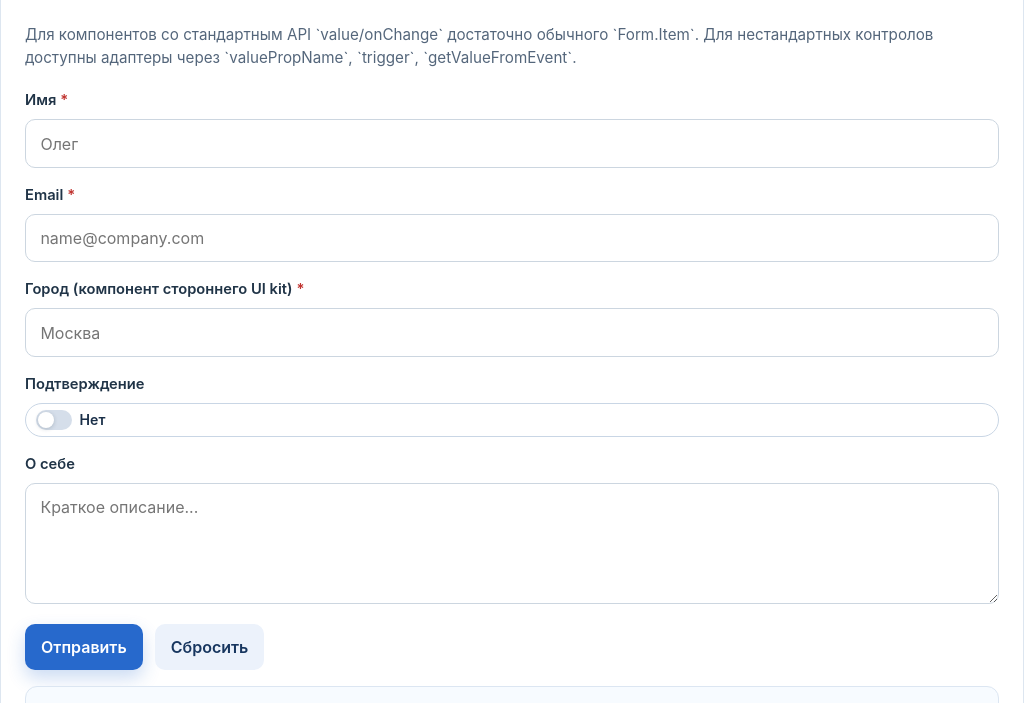
it: ProfileFormWidget › успешный submit показывает submittedValues
Type "Иван" into the field with placeholder "Олег" at {"x": 512, "y": 144}, box [25,120,999,168]
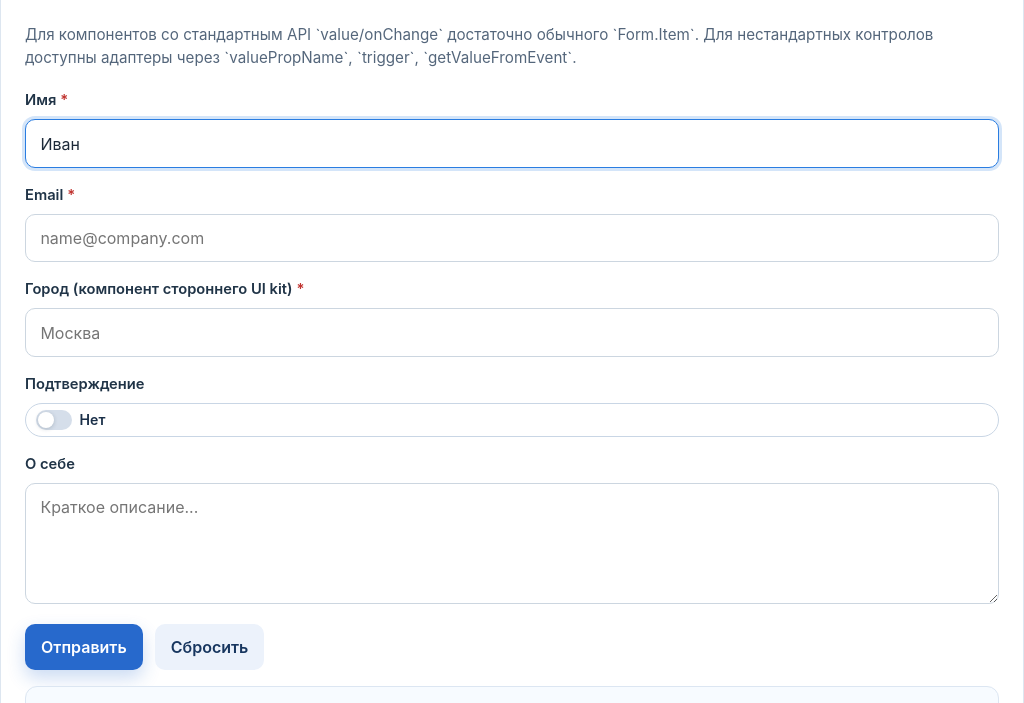
Type "ivan@example.com" into the field with placeholder "name@company.com" at {"x": 512, "y": 238}, box [25,214,999,262]
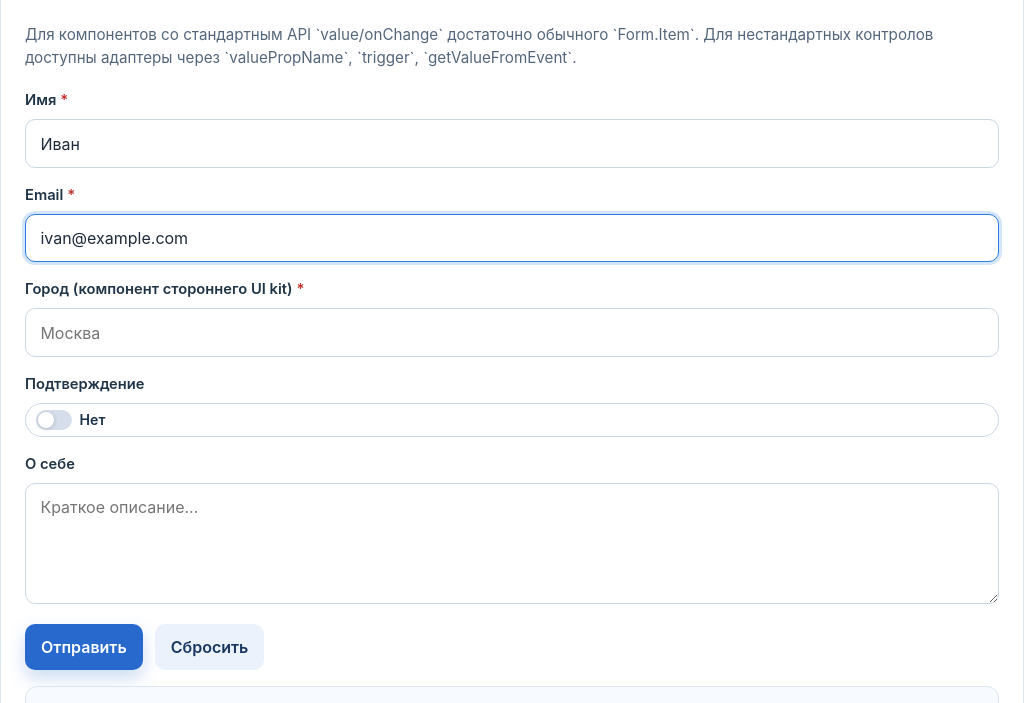
Type "Казань" into the field with placeholder "Москва" at {"x": 512, "y": 333}, box [25,308,999,357]
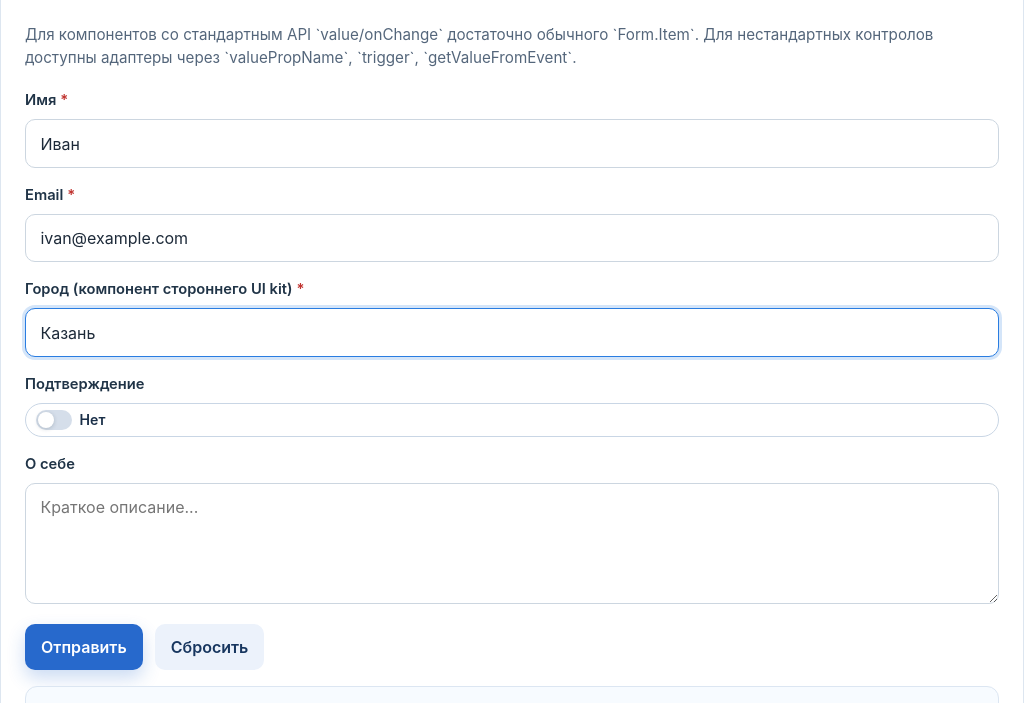
Type "Длинное описание профиля" into the text box with placeholder "Краткое описание..." at {"x": 512, "y": 543}, box [25,483,999,604]
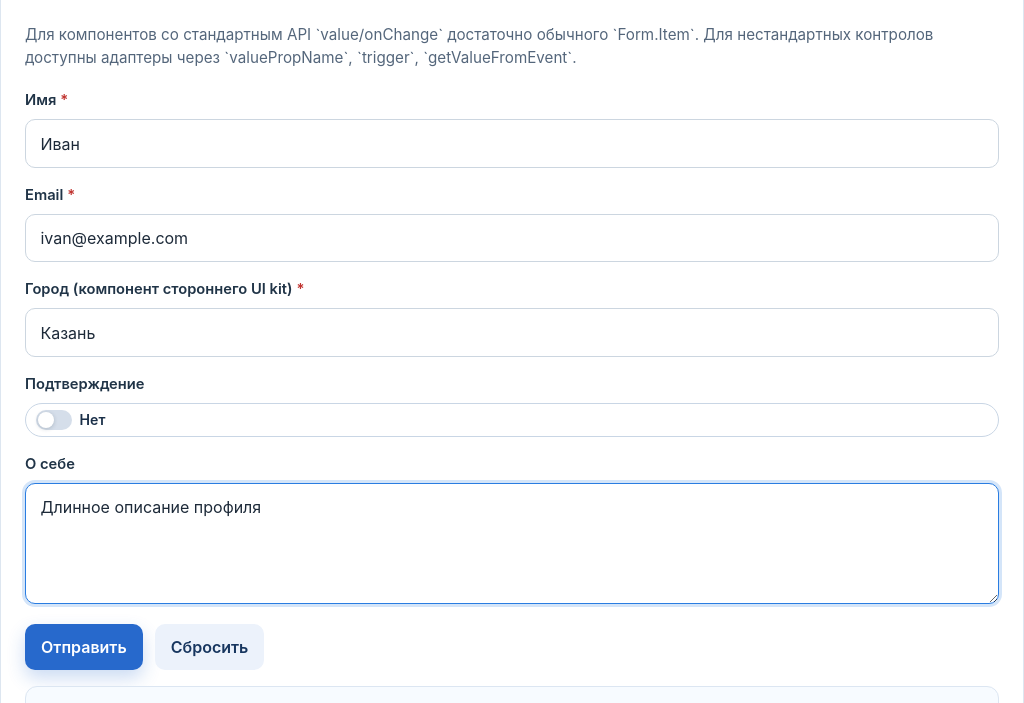
Click the switch at {"x": 54, "y": 420}, box [25,403,999,437]
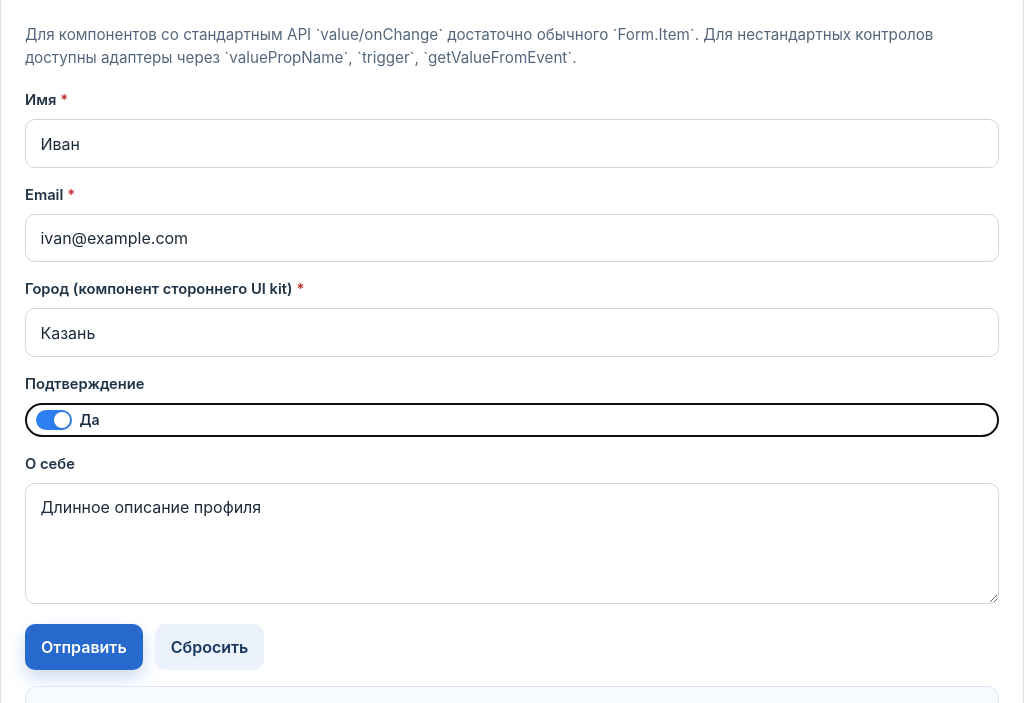
Click the button "Отправить" at {"x": 84, "y": 647}, box [25,624,143,670]
(page scrolled)
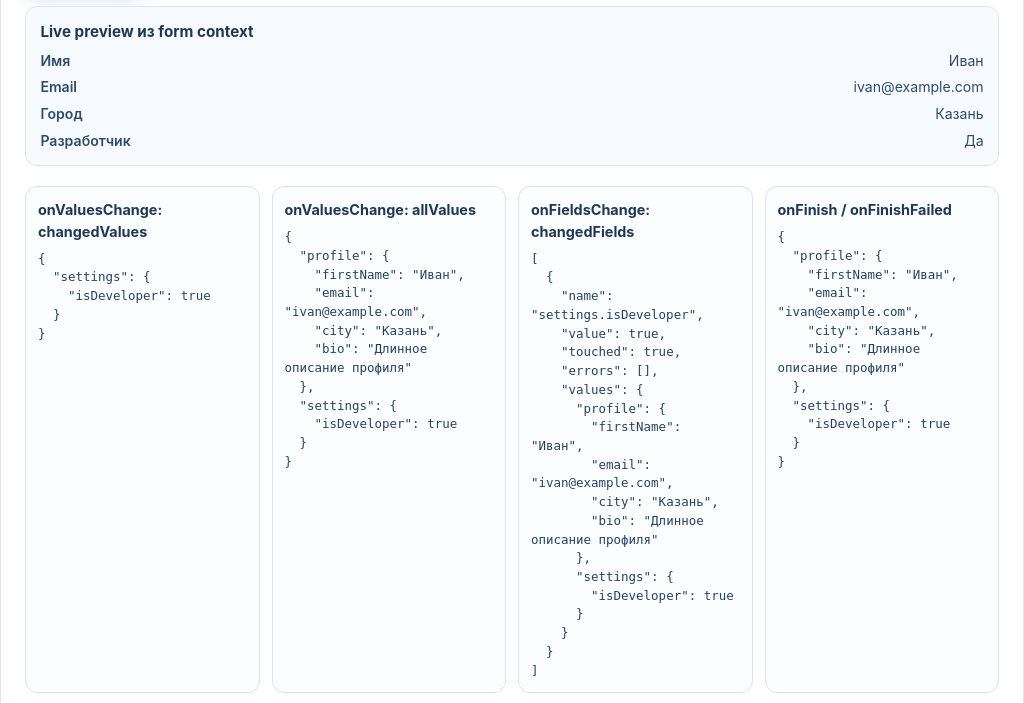
Check: the text "onFinish / onFinishFailed" is shown, box [778,201,952,218]
Check: the text "onFinish / onFinishFailed" shows "\"firstName\": \"Иван\"", box [778,229,958,469]
Check: the text "onFinish / onFinishFailed" shows "\"isDeveloper\": true", box [778,229,958,469]
